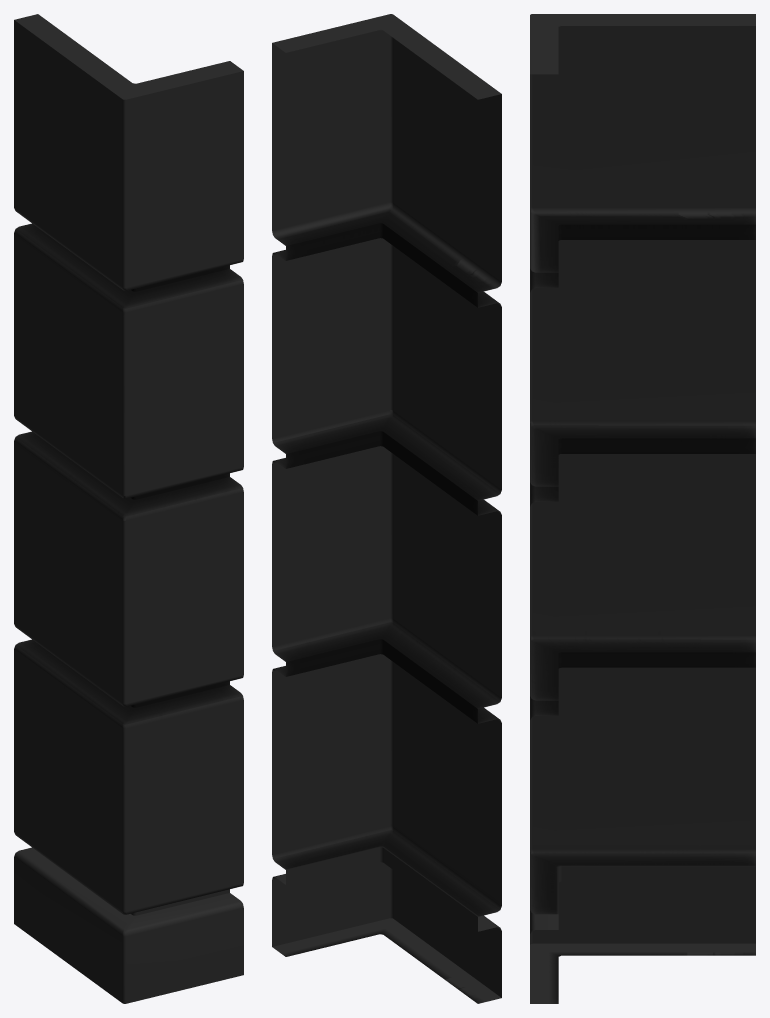
Rendered from Corner_SW.fbx.
The picture shows the model from 3 angles, left to right: view 1: azimuth 30°, elevation 25°; view 2: azimuth 210°, elevation 25°; view 3: azimuth 270°, elevation 25°; orthographic projection. The views are drawn at different scales.
Visible parts, largest first — view 1: Corner_SW; view 2: Corner_SW; view 3: Corner_SW.
Part boxes in pixels (x1=…): Corner_SW: x1=14, y1=14, x2=243, y2=1003; Corner_SW: x1=272, y1=14, x2=501, y2=1003; Corner_SW: x1=530, y1=14, x2=755, y2=1003.
Size of the model in its own units: 0.625 by 4.5 by 0.991.
